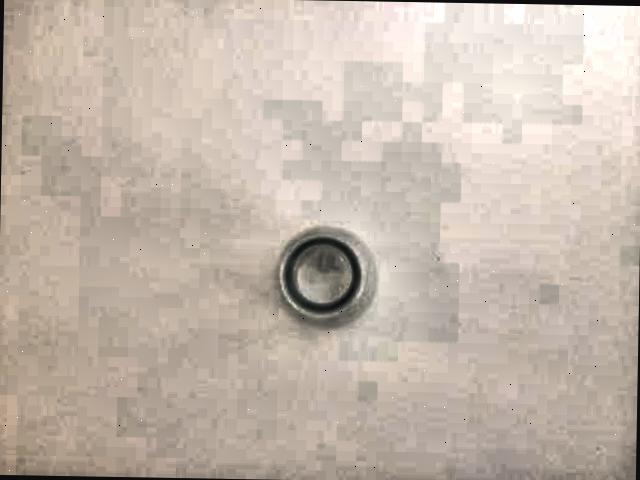Almennt: (244, 216, 392, 338)
